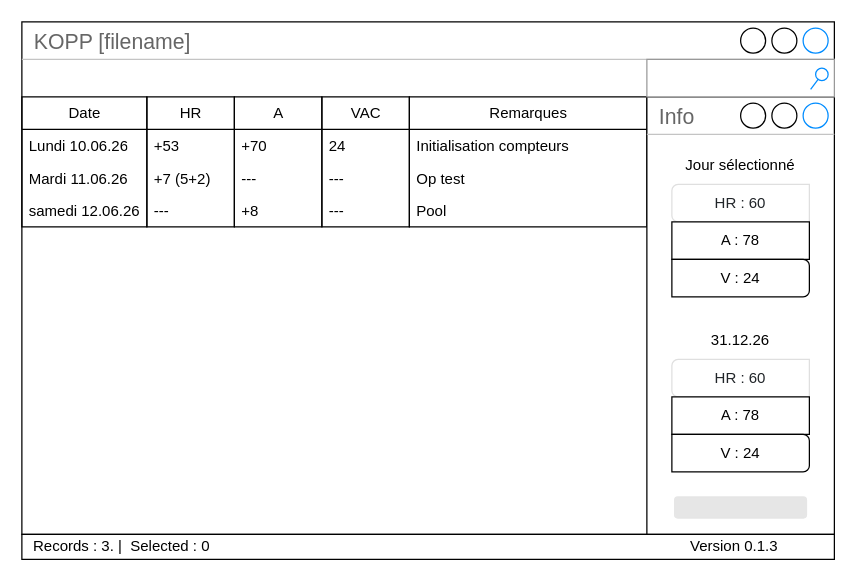
The diagram is 856 pixels wide and 581 high, and some of its shapes have lost their labels. The centre of each missing label's shape, as x and y in pixels:
change: the point at 739,507
Search: the point at 740,77
